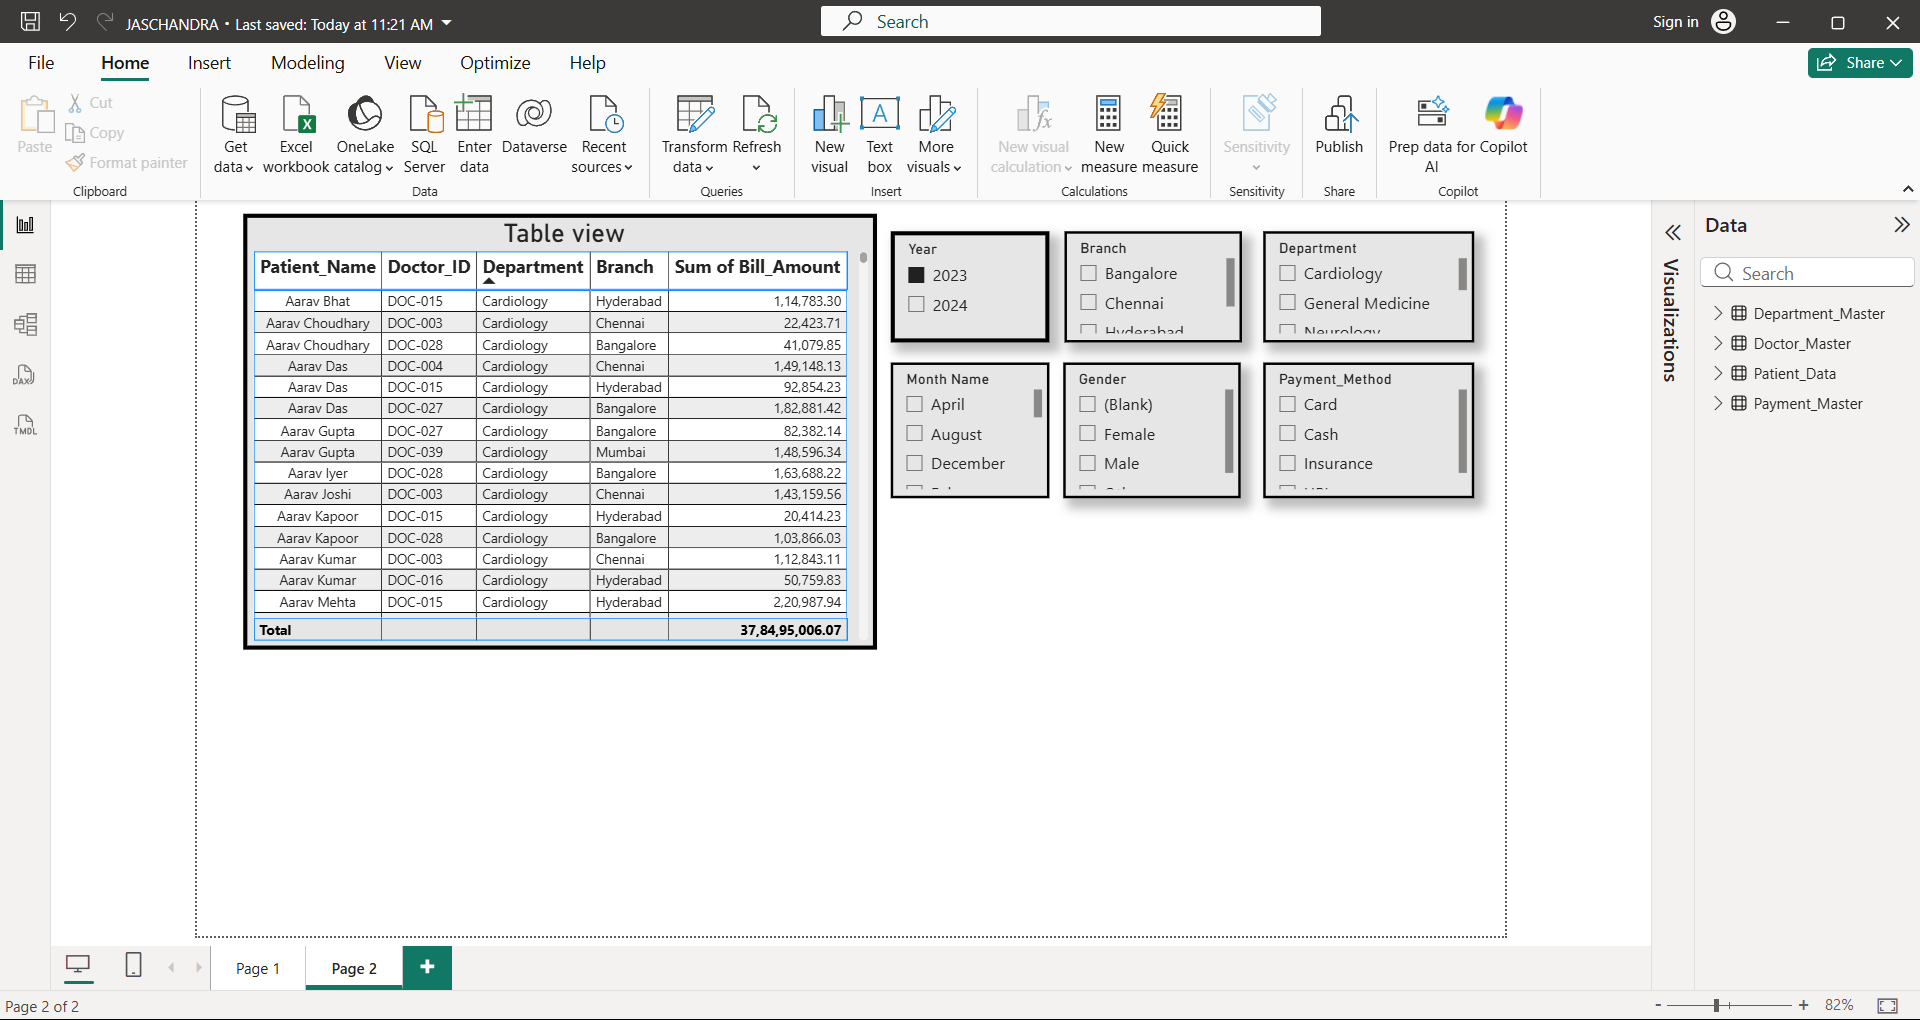

The page's visual inventory and layout, read from the dashboard file:
{"tool":"powerbi","page":{"name":"Page 2","canvas":[1280,720],"ordinal":1},"visuals":[{"type":"tableEx","title":"Table view","fields":{"Values":["Patient_Data.Patient_Name","Patient_Data.Doctor_ID","Patient_Data.Department","Patient_Data.Branch","Sum(Patient_Data.Bill_Amount)"]},"box":[45,13.8,620,426.2],"z":0},{"type":"slicer","fields":{"Values":["Patient_Data.Year"]},"box":[678.8,30,155,108.8],"z":1000},{"type":"slicer","fields":{"Values":["Patient_Data.Month Name"]},"box":[678.8,158.8,155,132.5],"z":2000},{"type":"slicer","fields":{"Values":["Patient_Data.Branch"]},"box":[848.8,30,173.8,108.8],"z":3000},{"type":"slicer","fields":{"Values":["Patient_Data.Department"]},"box":[1042.5,30,206.2,108.8],"z":4000},{"type":"slicer","fields":{"Values":["Patient_Data.Gender"]},"box":[847.5,158.8,173.8,132.5],"z":5000},{"type":"slicer","fields":{"Values":["Patient_Data.Payment_Method"]},"box":[1042.5,158.8,206.2,132.5],"z":6000}]}

Visuals, with their boxes on the page's 1280x720 design canvas (x1, y1, x2, y2). These are canvas units, not pixel positions in the 1920x1020 screenshot, which may show the page scaled, cropped or inside an application window:
"Table view" tableEx: Rect(45, 14, 665, 440)
slicer - Patient_Data.Year: Rect(679, 30, 834, 139)
slicer - Patient_Data.Month Name: Rect(679, 159, 834, 291)
slicer - Patient_Data.Branch: Rect(849, 30, 1023, 139)
slicer - Patient_Data.Department: Rect(1042, 30, 1249, 139)
slicer - Patient_Data.Gender: Rect(848, 159, 1021, 291)
slicer - Patient_Data.Payment_Method: Rect(1042, 159, 1249, 291)
